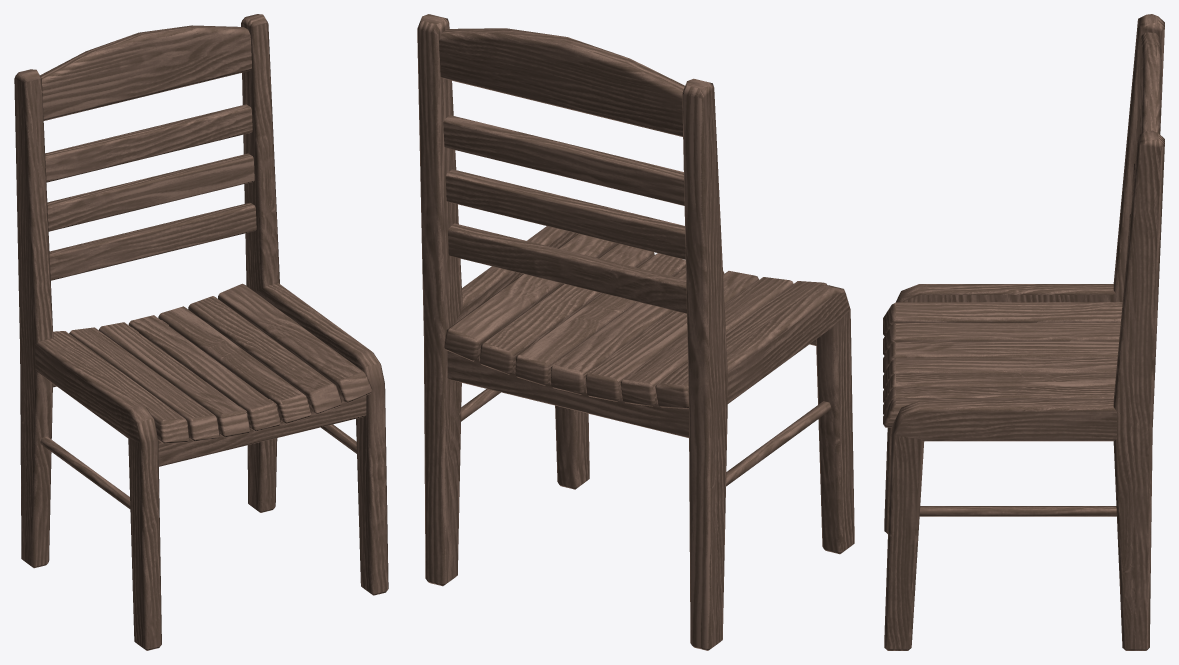
File: chair_058.fbx
3 views of the same model, side by side, from view 1: azimuth 30°, elevation 25°; view 2: azimuth 150°, elevation 25°; view 3: azimuth 270°, elevation 25° (orthographic). The views are drawn at different scales.
Parts seen in each view (by area): view 1: chair_058; view 2: chair_058; view 3: chair_058.
Part boxes in pixels (<box>): chair_058: <box>14,14,388,650</box>; chair_058: <box>417,14,854,650</box>; chair_058: <box>883,14,1164,650</box>.
Bounding box in the file's own units: 64.3 × 60.78 × 125.
